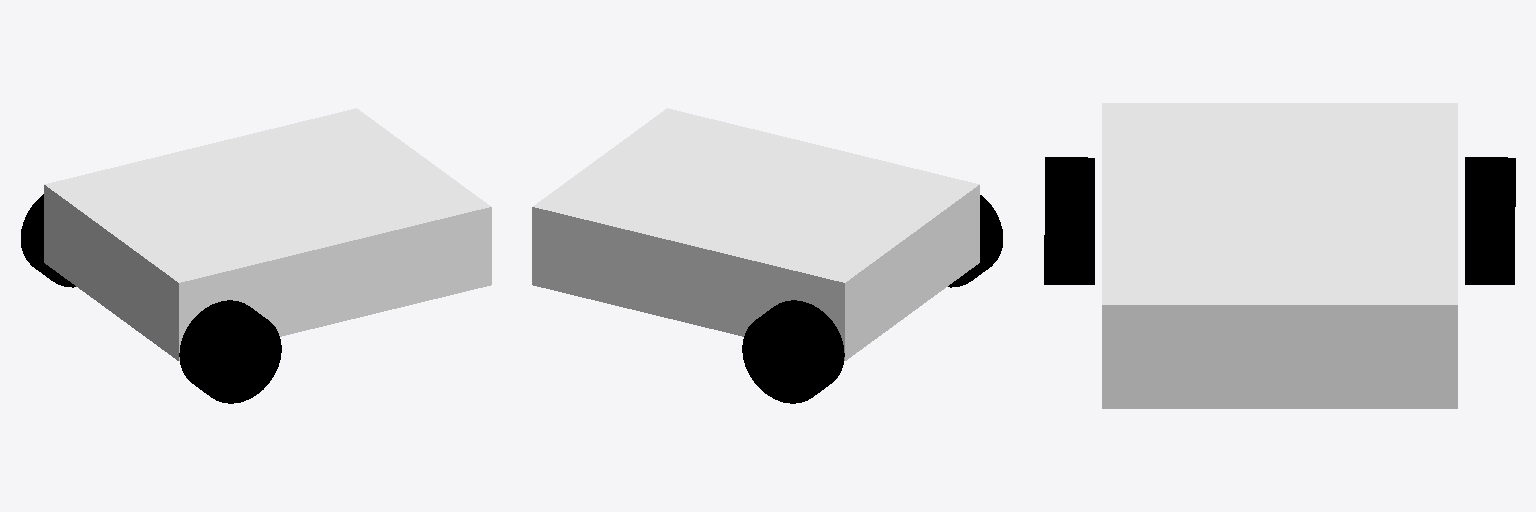
The robot description file, URDF, robot "wheeltec_robot":
<?xml version="1.0" ?>
<robot name="wheeltec_robot">

    <link name="base_link">
        <visual>
            <origin xyz=" 0.14 0 0.085" rpy="0 0 0" />
            <geometry>
                <box size="0.375 0.28 0.09"/>
            </geometry>
            <material name="white">
                <color rgba="1 1 1 1"/>
            </material>
        </visual>
    </link>   

    <joint name="left_wheel_joint" type="continuous">
        <origin xyz="0 0.165 0.05" rpy="1.57 0 0"/>
        <parent link="base_link"/>
        <child link="left_wheel_link"/>
        <axis xyz="0 1 0"/>
    </joint>

    <link name="left_wheel_link">
        <visual>
            <origin xyz="0 0 0" rpy="0 0 0" />
            <geometry>
                <cylinder radius="0.05" length = "0.04"/>
            </geometry>
            <material name="black">
                <color rgba="0 0 0 1"/>
            </material>
        </visual>
    </link>

    <joint name="right_wheel_joint" type="continuous">
        <origin xyz="0 -0.165 0.05" rpy="1.57 0 0"/>
        <parent link="base_link"/>
        <child link="right_wheel_link"/>
        <axis xyz="0 1 0"/>
    </joint>

    <link name="right_wheel_link">
        <visual>
            <origin xyz="0 0 0" rpy="0 0 0" />
            <geometry>
                <cylinder radius="0.05" length = "0.04"/>
            </geometry>
            <material name="black">
                <color rgba="0 0 0 1"/>
            </material>
        </visual>
    </link>

      <joint name="front_wheel_joint" type="continuous">
        <origin xyz="0.23 0 0.05" rpy="1.57 0 0"/>
        <parent link="base_link"/>
        <child link="front_wheel_link"/>
        <axis xyz="0 1 0"/>
    </joint>

    <link name="front_wheel_link">
        <visual>
            <origin xyz="0 0 0" rpy="0 0 0" />
            <geometry>
                <cylinder radius="0.05" length = "0.04"/>
            </geometry>
            <material name="black">
                <color rgba="0 0 0 1"/>
            </material>
        </visual>
    </link>



</robot>

--- Facts derived from the render (not from the file) ---
3 views of the same robot in one strip: view 1: azimuth 30°, elevation 25°; view 2: azimuth 150°, elevation 25°; view 3: azimuth 270°, elevation 25° (orthographic).
Robot: wheeltec_robot — 4 links, 3 joints (3 continuous); root link base_link; default pose: every joint at zero.
Visible links, largest first — view 1: base_link, right_wheel_link, left_wheel_link; view 2: base_link, left_wheel_link, right_wheel_link; view 3: base_link, right_wheel_link, left_wheel_link.
Boxes of the visible links, x1=… form: base_link: x1=44, y1=108, x2=491, y2=360; right_wheel_link: x1=179, y1=300, x2=281, y2=403; left_wheel_link: x1=21, y1=194, x2=75, y2=287; base_link: x1=532, y1=108, x2=979, y2=360; left_wheel_link: x1=742, y1=300, x2=844, y2=403; right_wheel_link: x1=948, y1=195, x2=1002, y2=287; base_link: x1=1102, y1=103, x2=1457, y2=408; right_wheel_link: x1=1044, y1=157, x2=1094, y2=284; left_wheel_link: x1=1465, y1=157, x2=1515, y2=284.
Bounding box of the posed robot: 0.3775 × 0.3701 × 0.13 m (x, y, z).
Geometry: primitives only (box / cylinder / sphere), no mesh files.